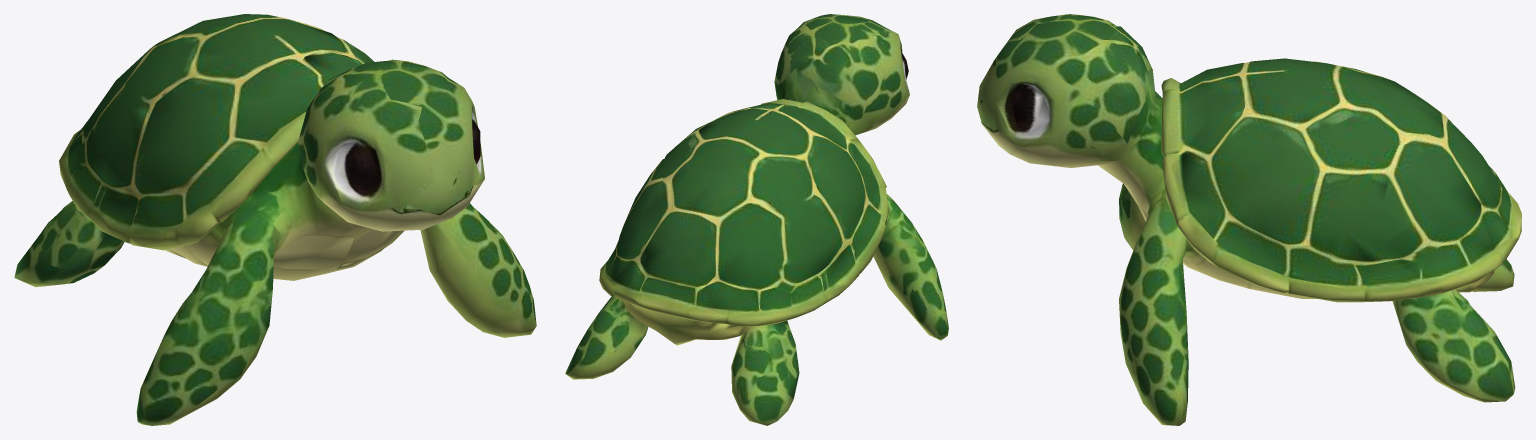
Rendered from seaturtle.glb.
3 renders of one model, left to right at view 1: azimuth 30°, elevation 25°; view 2: azimuth 150°, elevation 25°; view 3: azimuth 270°, elevation 25°, orthographic. The views are drawn at different scales.
Parts seen in each view (by area): view 1: model; view 2: model; view 3: model.
Part boxes in pixels (x1,y1,x2,y2): model: [14, 14, 536, 425]; model: [565, 14, 948, 425]; model: [977, 14, 1521, 425].
Size of the model in its own units: 1.47 by 1.22 by 1.9.
1 material, 1 textured.
